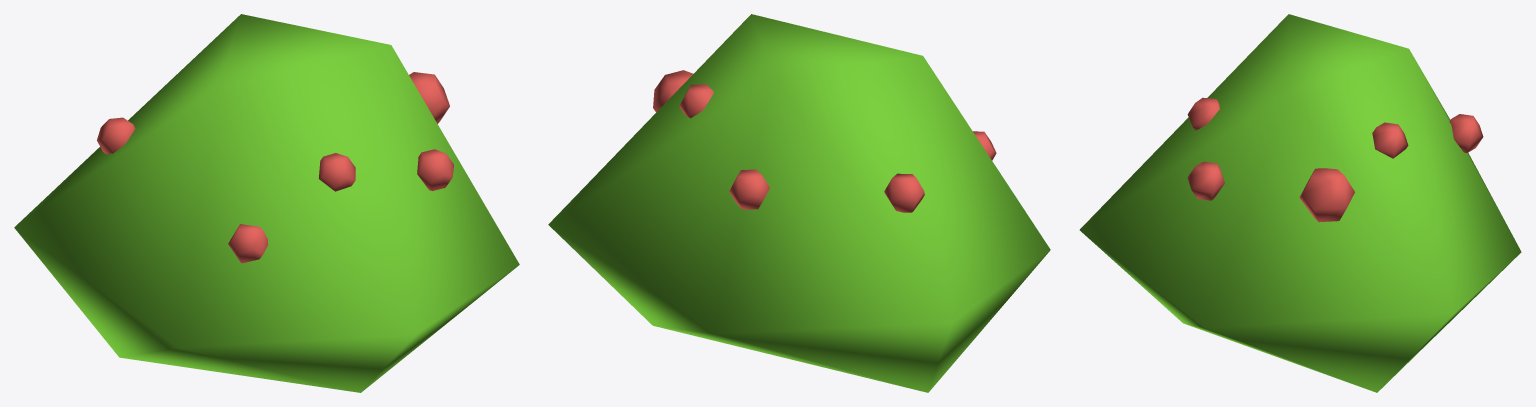
File: arbusto 1.fbx
3 views of the same model, side by side, from view 1: azimuth 30°, elevation 25°; view 2: azimuth 150°, elevation 25°; view 3: azimuth 270°, elevation 25° (orthographic). The views are drawn at different scales.
Parts seen in each view (by area): view 1: 20_Sided, 12_Sided1; view 2: 20_Sided, 12_Sided1; view 3: 20_Sided, 12_Sided1.
Boxes of the visible parts, bbox=[...] form: 20_Sided: bbox=[14, 14, 519, 392]; 12_Sided1: bbox=[97, 72, 453, 263]; 20_Sided: bbox=[548, 14, 1050, 392]; 12_Sided1: bbox=[653, 70, 996, 212]; 20_Sided: bbox=[1079, 14, 1521, 392]; 12_Sided1: bbox=[1187, 97, 1483, 222].
Bounding box in the file's own units: 1158 × 810 × 1158.
